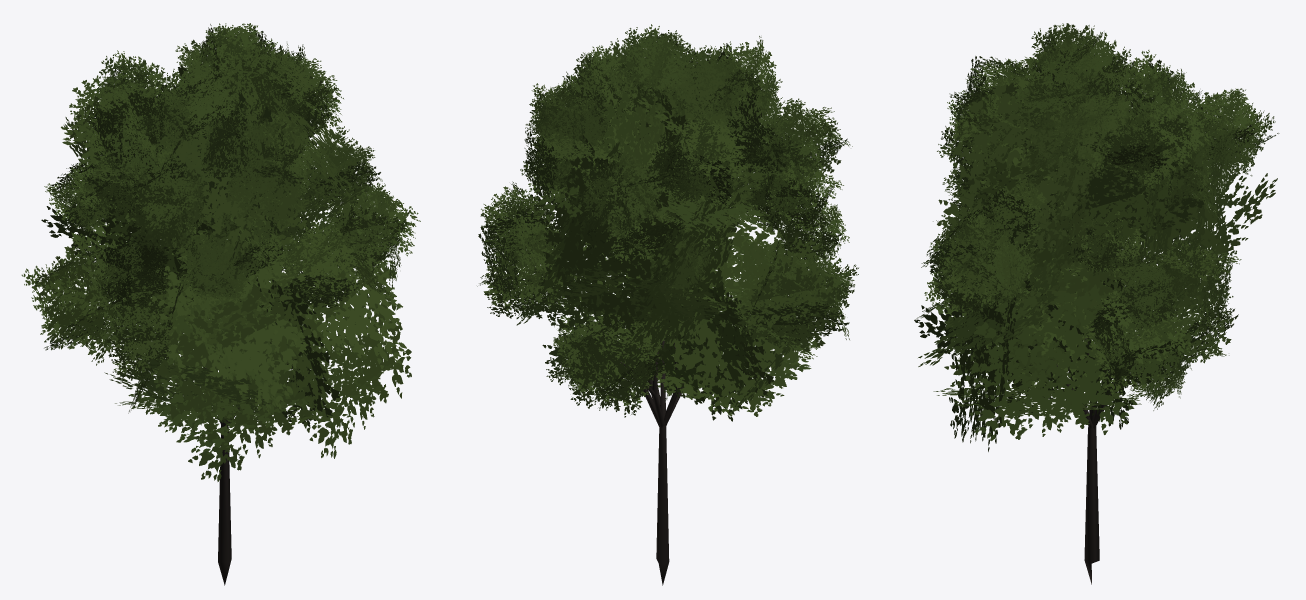
Rendered from tree_small_a.glb.
The picture shows the model from 3 angles, left to right: view 1: azimuth 30°, elevation 25°; view 2: azimuth 150°, elevation 25°; view 3: azimuth 270°, elevation 25°; orthographic projection.
Parts seen in each view (by area): view 1: Object_33, Object_32; view 2: Object_33, Object_32; view 3: Object_33, Object_32.
Boxes of the visible parts, bbox=[...] form: Object_33: bbox=[21, 23, 420, 481]; Object_32: bbox=[201, 337, 239, 585]; Object_33: bbox=[477, 24, 858, 421]; Object_32: bbox=[587, 332, 684, 585]; Object_33: bbox=[914, 23, 1279, 451]; Object_32: bbox=[1056, 327, 1176, 584].
Bounding box in the file's own units: 5.52 × 8.08 × 5.19.
2 materials, 1 textured.
